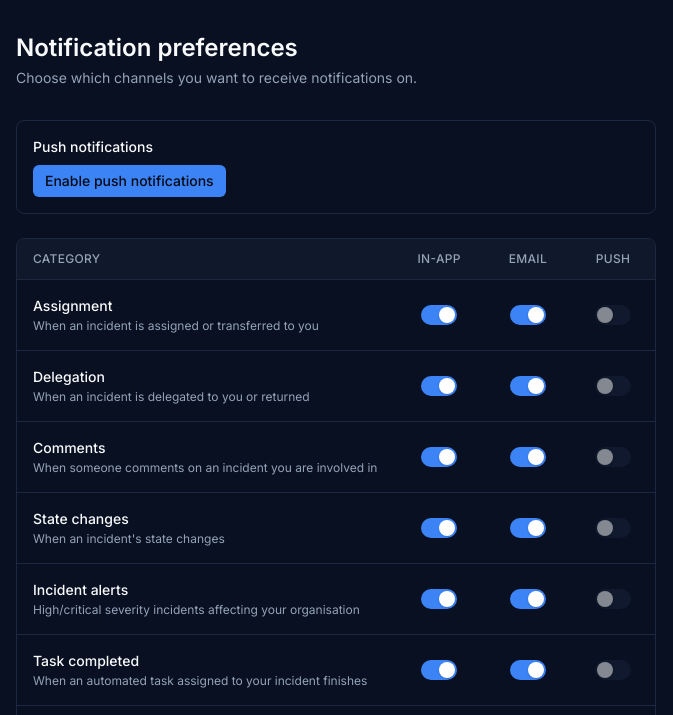
Test: NotificationPreferences › saves changed preferences on button click
Expected: the text "Comments" is shown, [33,439,105,456]
Click the switch named "comments email" at point(528, 457), box [510,447,546,467]
(page scrolled)
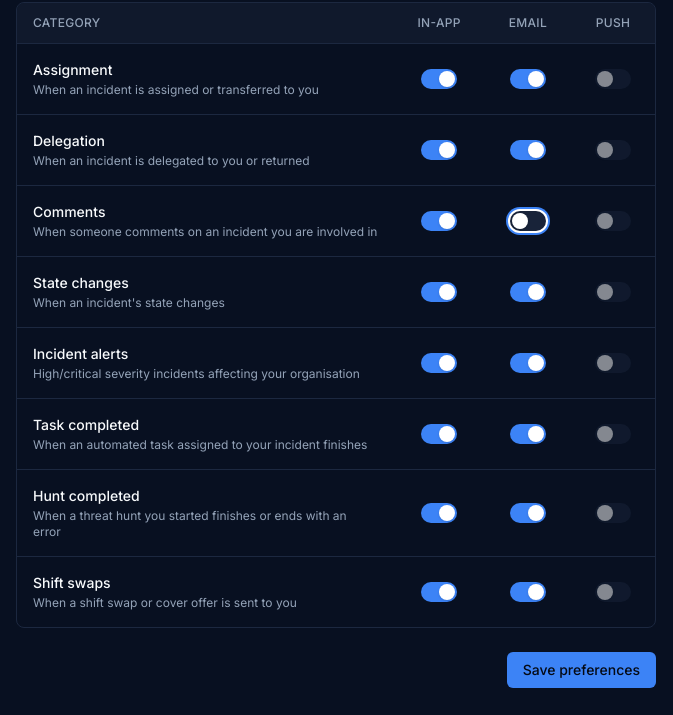
Click the button "Save preferences" at point(581, 670), box [507,652,656,688]
(page scrolled)
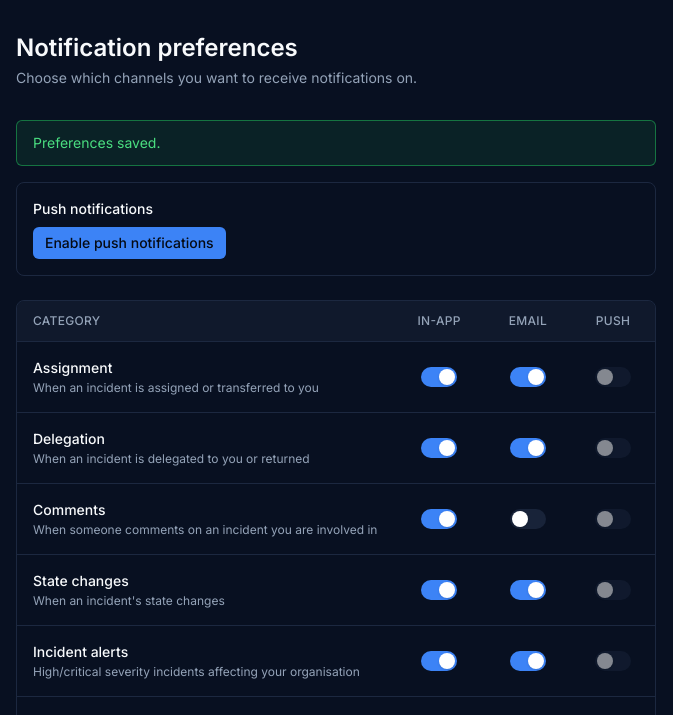
Expected: the message shows "Preferences saved", [33,134,160,151]
